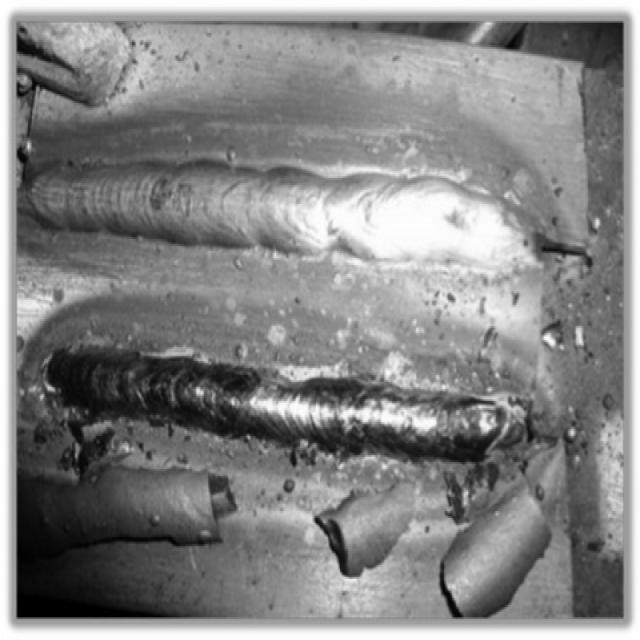Bad Weld: (44, 334, 518, 460)
Good Weld: (29, 158, 532, 274)
